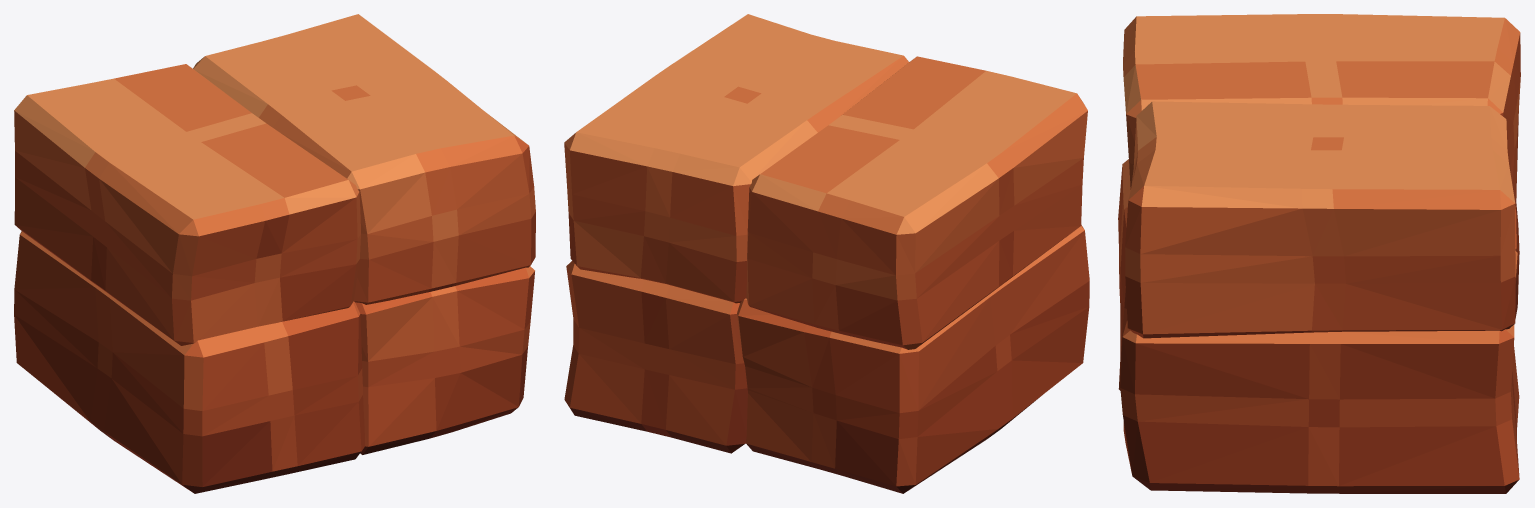
Rendered from SM_ROCK_BLOCK_03.fbx.
3 views of the same model, side by side, from view 1: azimuth 30°, elevation 25°; view 2: azimuth 150°, elevation 25°; view 3: azimuth 270°, elevation 25° (orthographic). The views are drawn at different scales.
Parts seen in each view (by area): view 1: ROCK_BLOCK_03; view 2: ROCK_BLOCK_03; view 3: ROCK_BLOCK_03.
Boxes of the visible parts, x1,y1,x2,y2 form: ROCK_BLOCK_03: [14, 14, 535, 493]; ROCK_BLOCK_03: [564, 14, 1089, 493]; ROCK_BLOCK_03: [1118, 14, 1520, 493].
Size of the model in its own units: 1.47 by 1.31 by 1.09.
